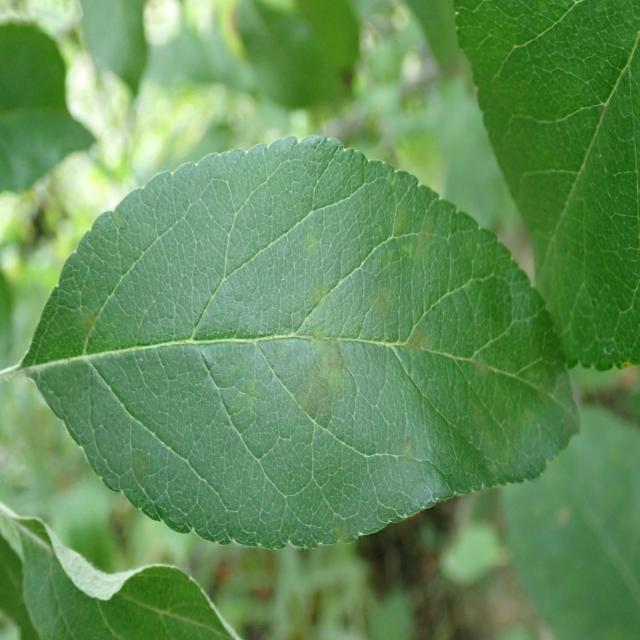scab: (132, 250, 580, 475), (29, 226, 112, 394)
